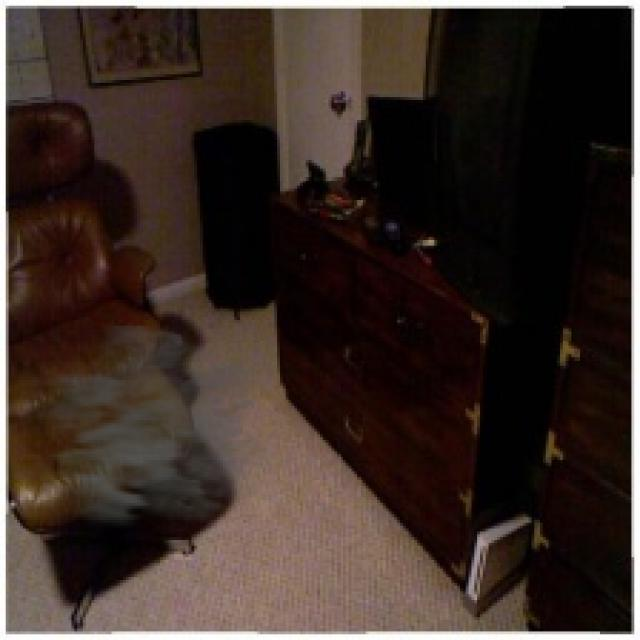Smoke: (25, 326, 288, 543)
